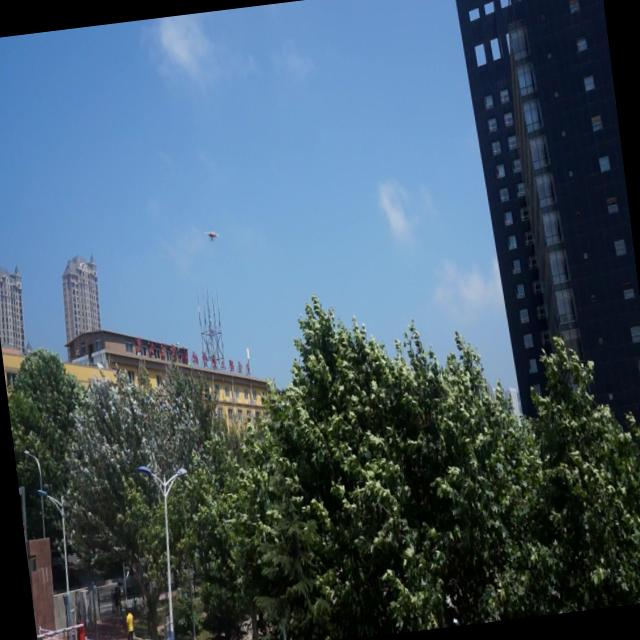drone: (203, 222, 221, 248)
